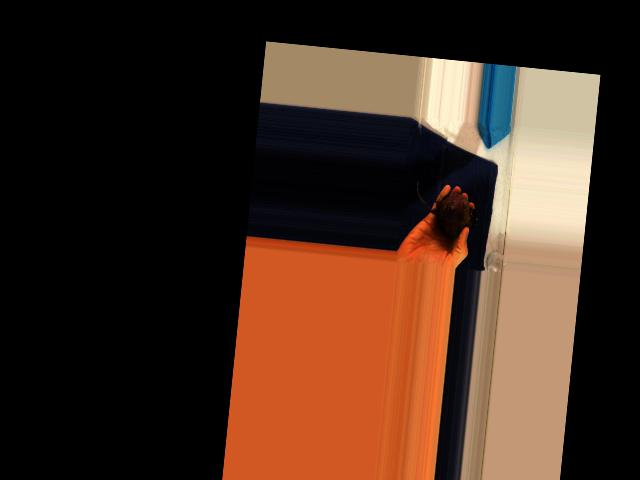beet: (411, 179, 480, 240)
